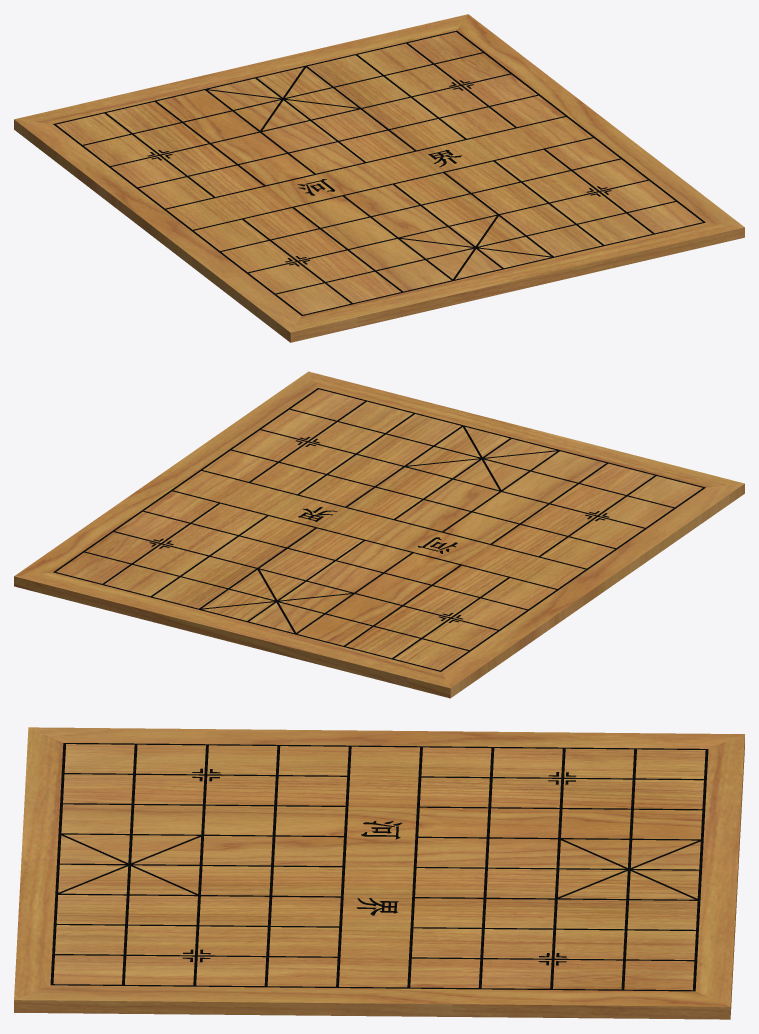
3 renders of one model, top to bottom at view 1: azimuth 30°, elevation 25°; view 2: azimuth 150°, elevation 25°; view 3: azimuth 270°, elevation 25°, orthographic. The views are drawn at different scales.
Visible parts, largest first — view 1: Obj3d66_579820_32_911; view 2: Obj3d66_579820_32_911; view 3: Obj3d66_579820_32_911.
Boxes of the visible parts, <box> form: Obj3d66_579820_32_911: <box>14,14,744,342</box>; Obj3d66_579820_32_911: <box>14,371,744,698</box>; Obj3d66_579820_32_911: <box>14,727,744,1019</box>.
Bounding box in the file's own units: 1853 × 39.4 × 2048.
2 materials, 1 textured.
